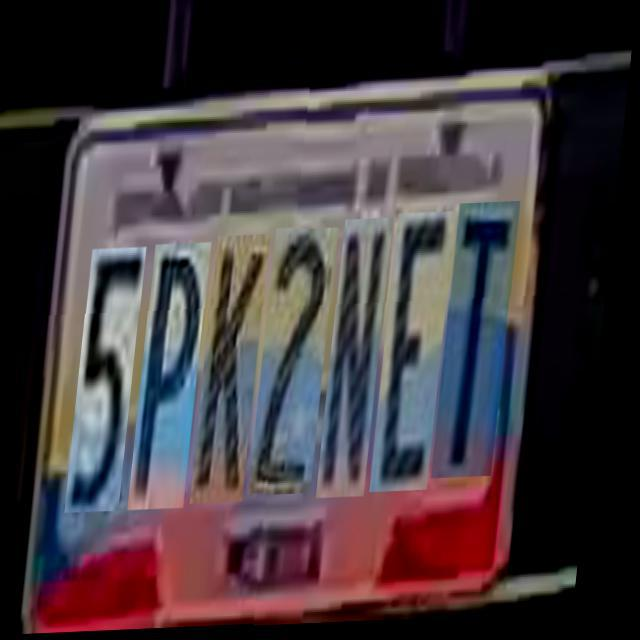2: (260, 231, 344, 499)
5: (76, 250, 152, 516)
E: (382, 215, 462, 496)
K: (202, 238, 276, 508)
N: (328, 222, 398, 502)
P: (139, 246, 217, 514)
T: (442, 206, 526, 483)
